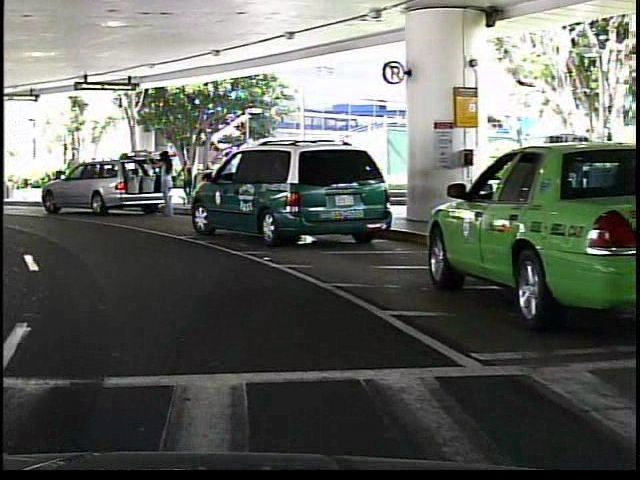person: (155, 144, 174, 224), (58, 148, 83, 201), (173, 155, 193, 213)
